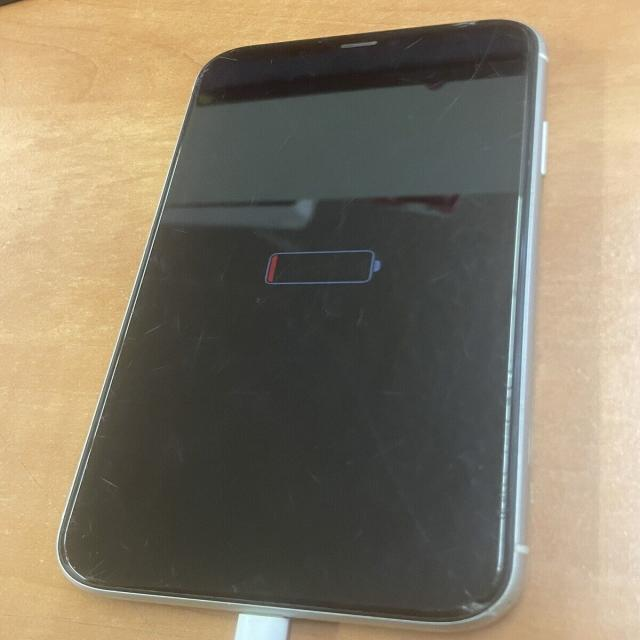Scratches: (435, 26, 518, 117), (92, 471, 129, 502), (216, 50, 248, 80), (166, 220, 196, 243), (141, 323, 168, 345), (399, 32, 428, 48)
